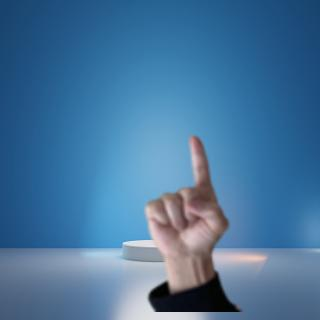IRRITATED: (141, 134, 232, 265)
